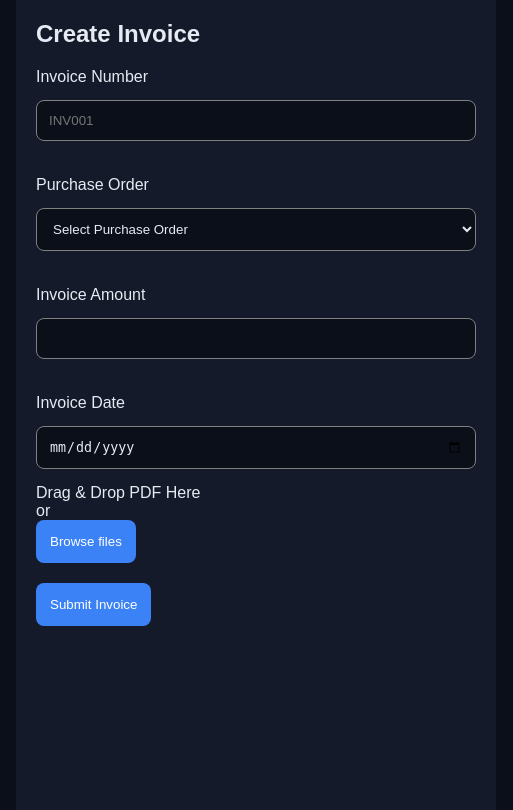
it: Invoice › validates the invoice number format
The width and height of the screenshot is (513, 810).
In the field labelled "Invoice Number": (256,120) [36,100,476,141], type "ABC123"
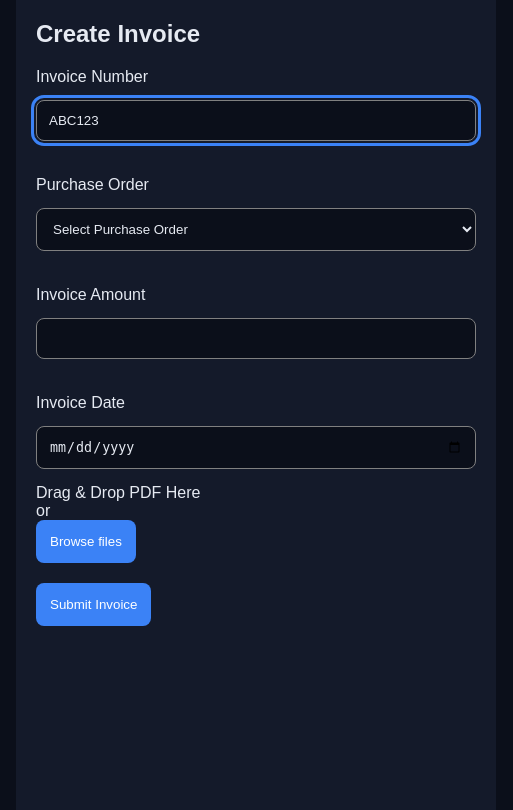
Click the button "Submit Invoice": (94,605) [36,583,151,626]
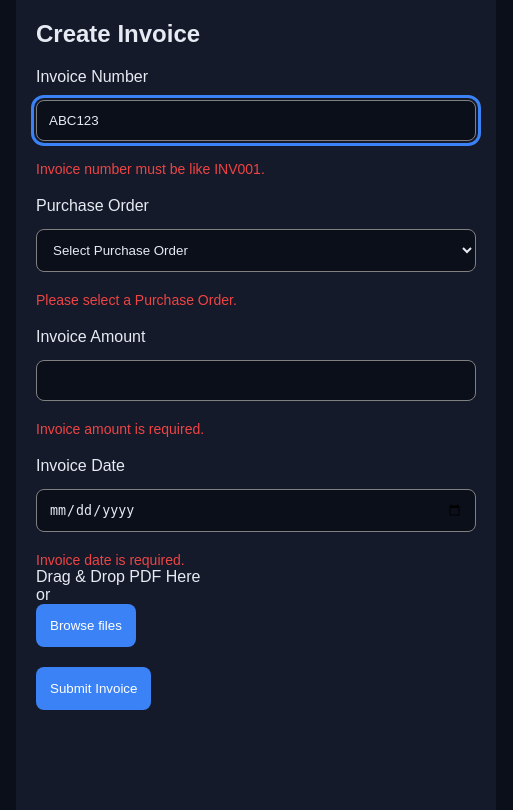
Now the text "Invoice number must be like INV001." is shown, box [36,161,265,177]
